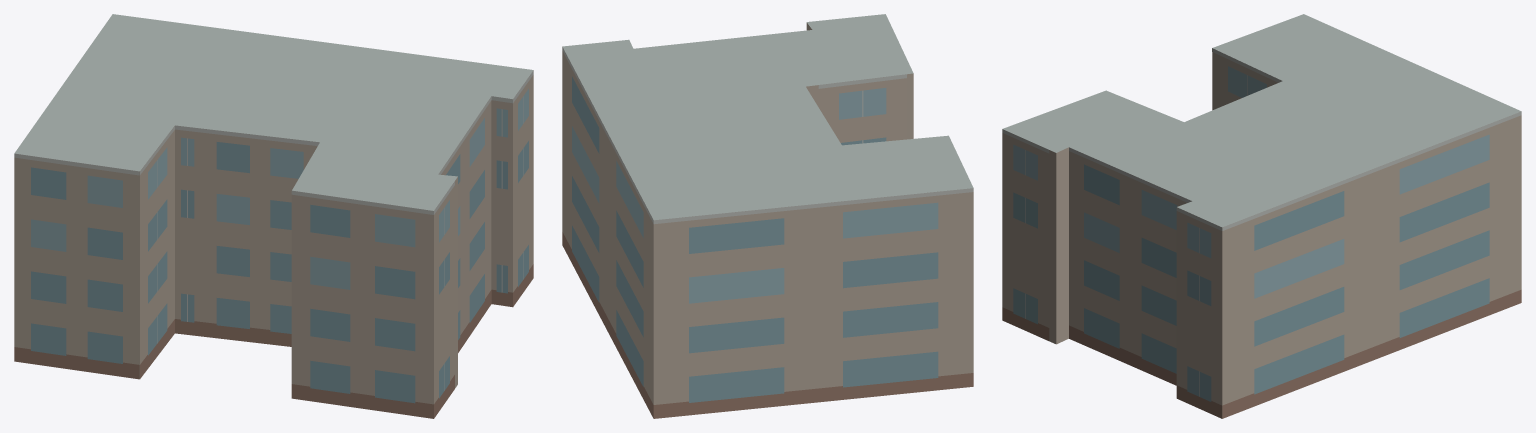
Rendered from survey-upis-32949140.glb.
3 views of the same model, side by side, from view 1: azimuth 30°, elevation 25°; view 2: azimuth 150°, elevation 25°; view 3: azimuth 270°, elevation 25° (orthographic). The views are drawn at different scales.
Parts seen in each view (by area): view 1: survey-upis-32949140.tmp; view 2: survey-upis-32949140.tmp; view 3: survey-upis-32949140.tmp.
Part boxes in pixels (x1,y1,x2,y2): survey-upis-32949140.tmp: [14, 14, 533, 418]; survey-upis-32949140.tmp: [562, 14, 973, 418]; survey-upis-32949140.tmp: [1002, 14, 1521, 418].
Size of the model in its own units: 29.65 by 12.4 by 30.5.
